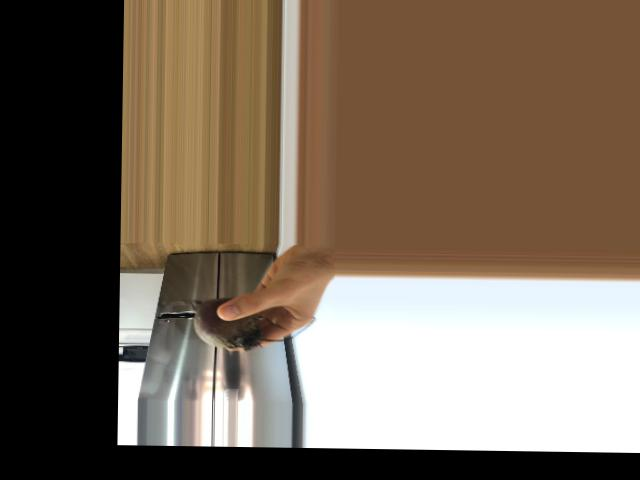beet: (181, 297, 315, 351)
